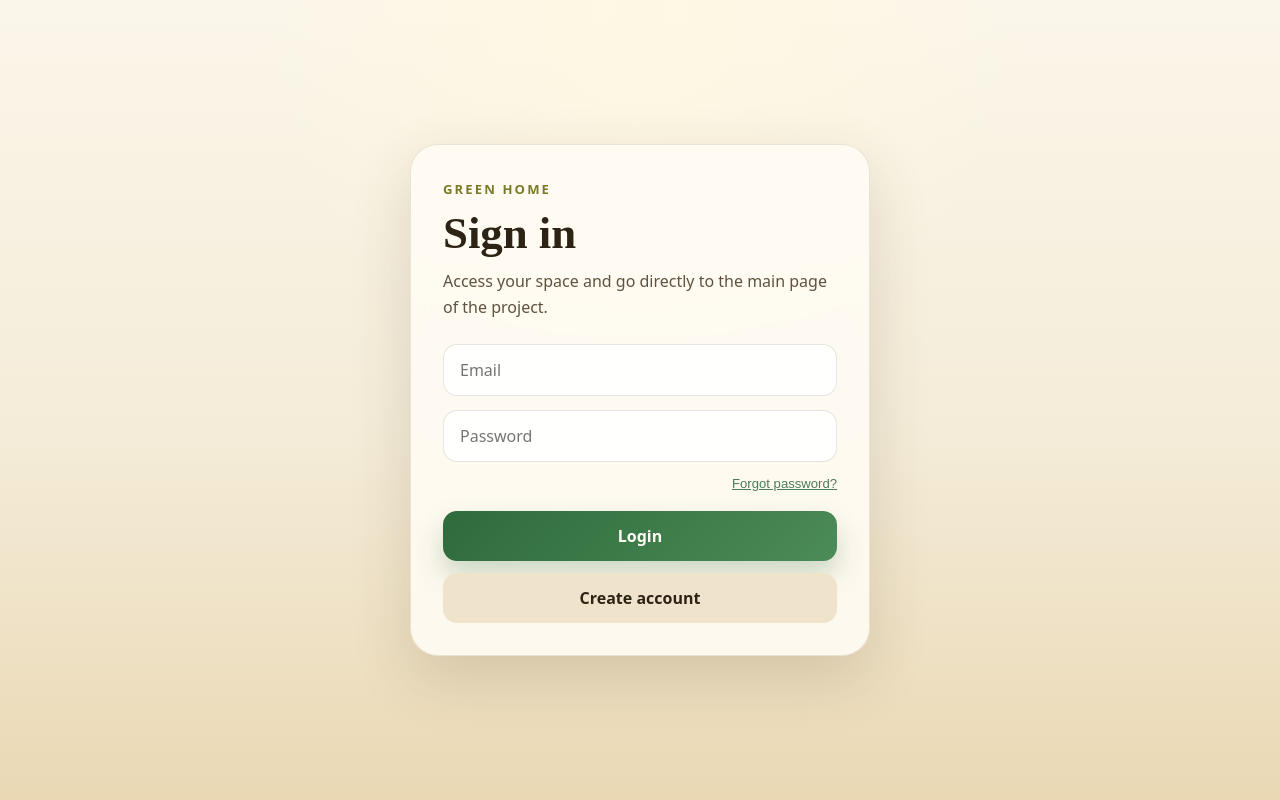
Login › shows error message on failed login (401)
Click the button "Login".
click(640, 536)  # box [443,511,837,561]
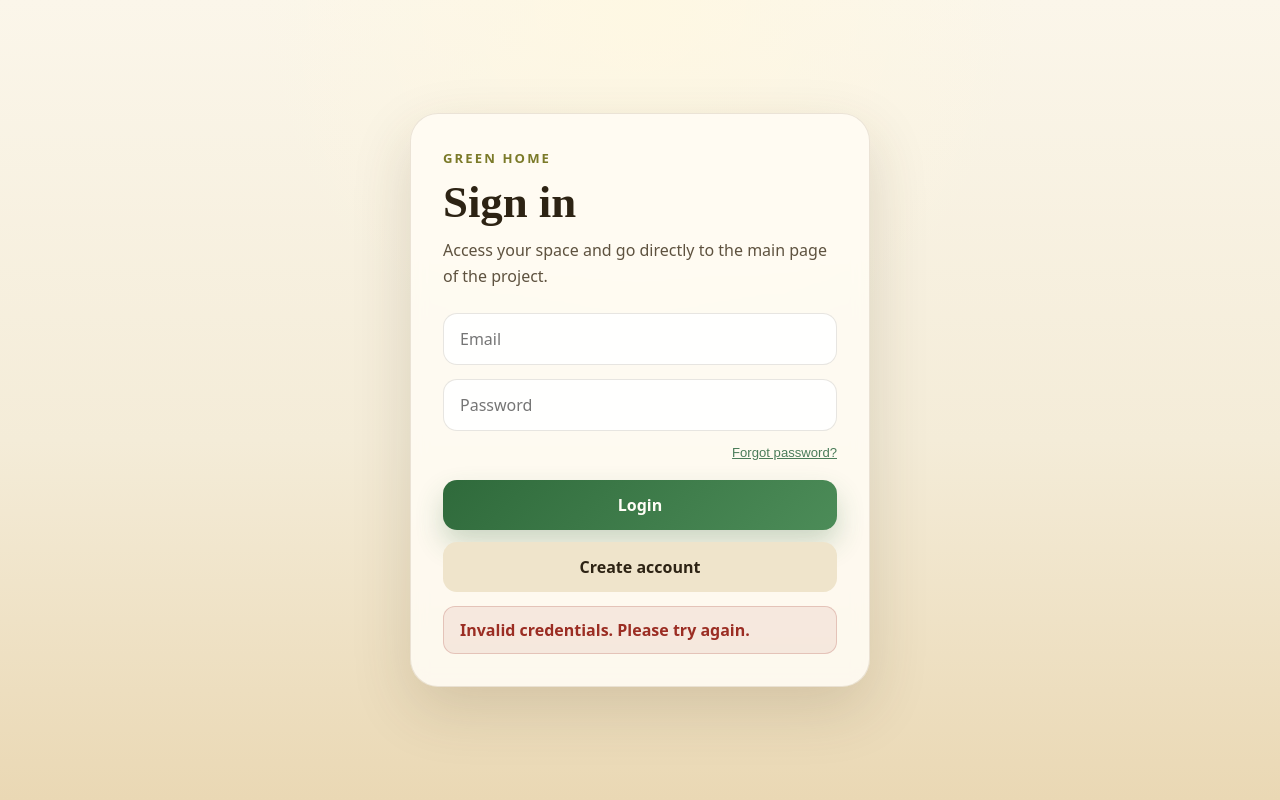
Check: the text "Invalid credentials. Please try again." is shown, box [443,606,837,654]
